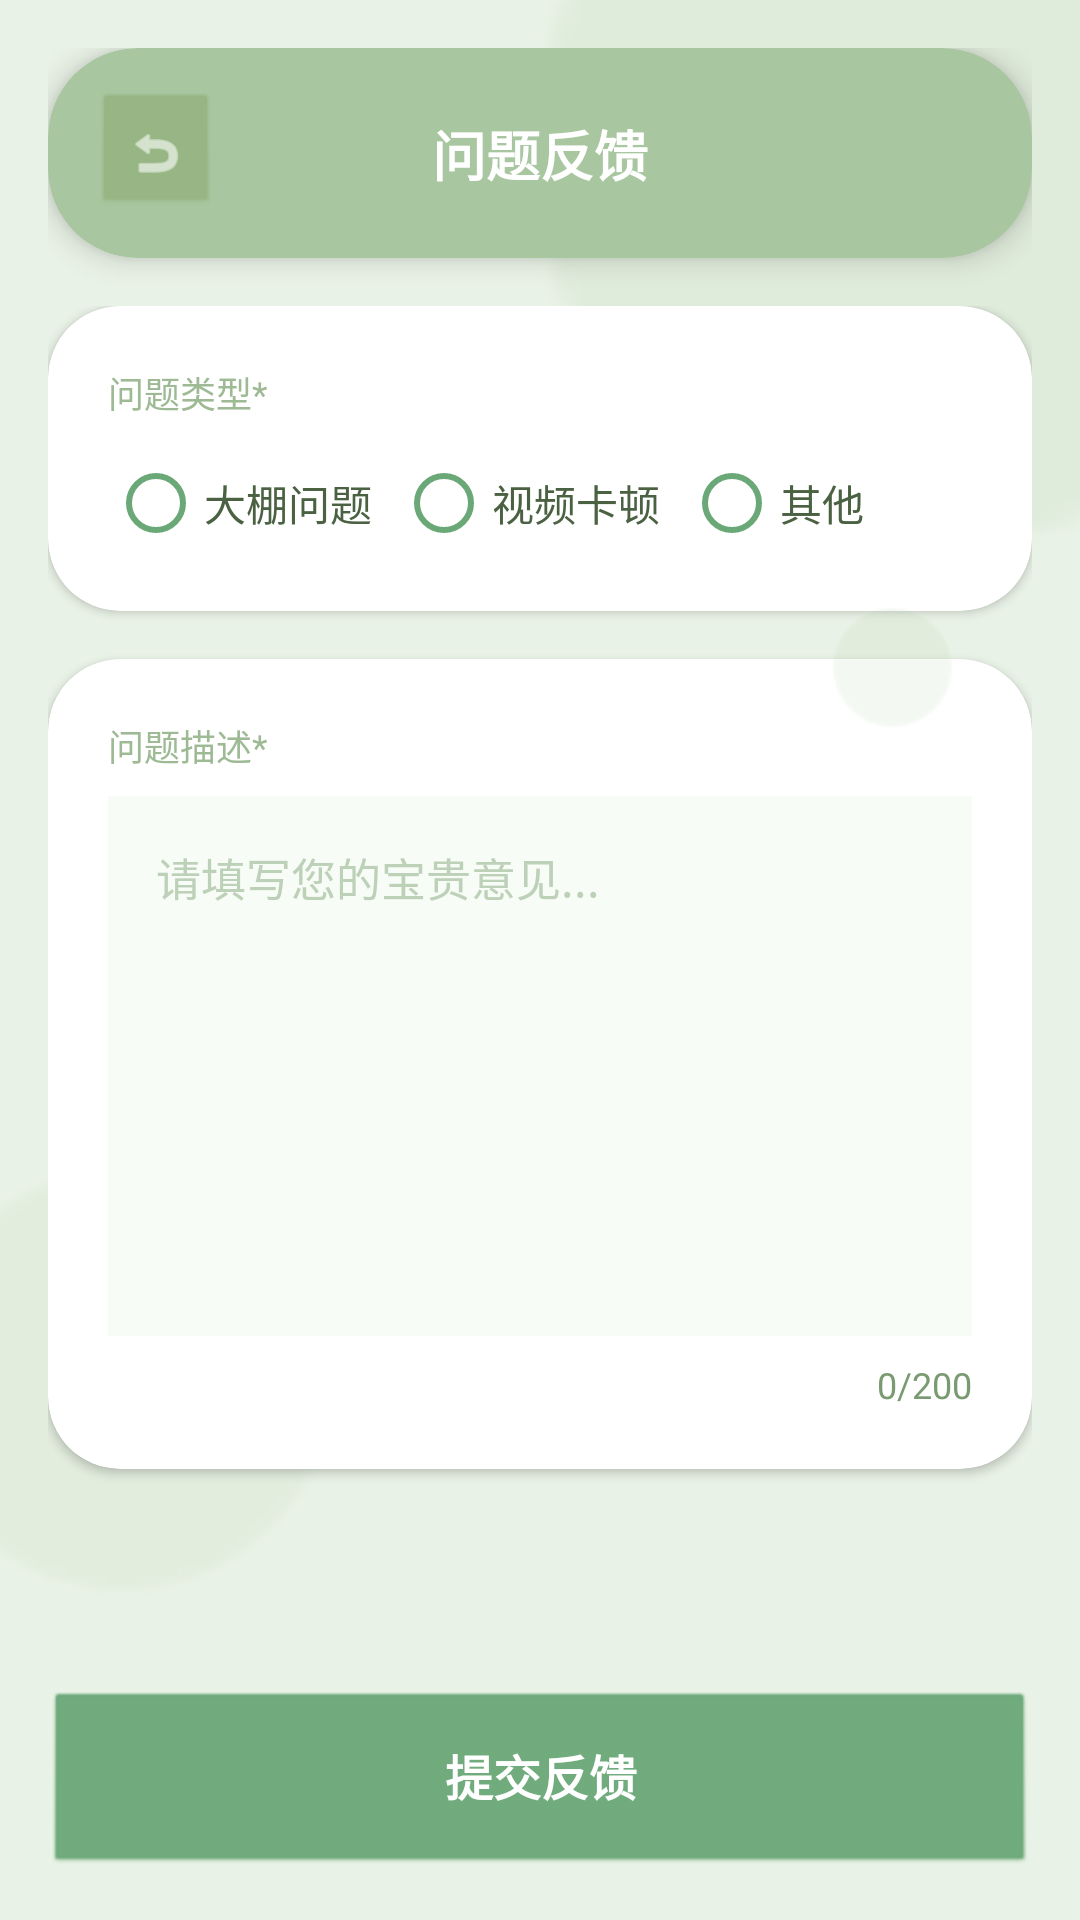

Where icons sit on this 1080px x 1920px app screen, as region(x1, y1, x2, y2):
revert: region(104, 96, 207, 199)
